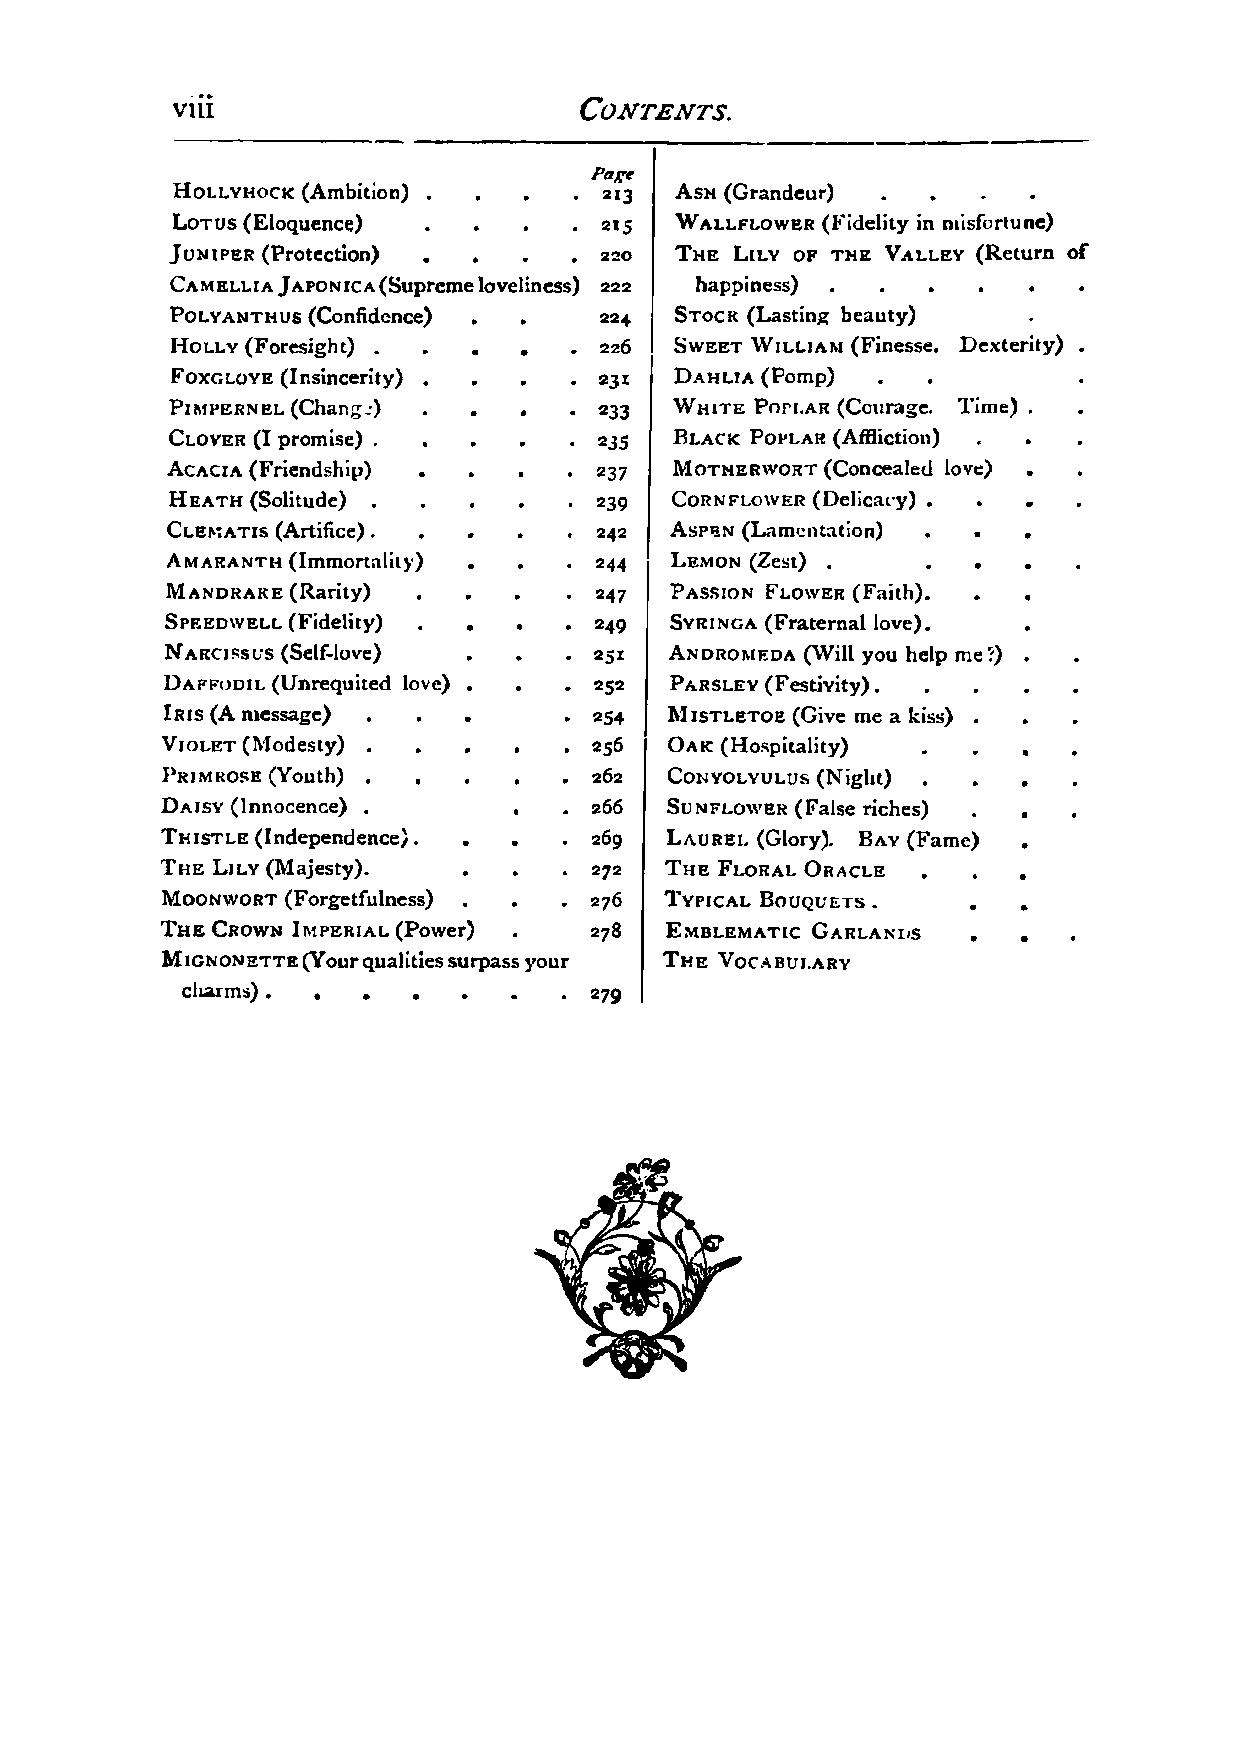TOC_chapter: (158, 947, 568, 1002), (164, 271, 582, 299), (153, 917, 570, 942), (164, 170, 412, 207), (162, 670, 450, 698), (156, 823, 416, 854), (166, 301, 433, 330), (156, 887, 436, 913), (166, 362, 404, 391), (164, 454, 374, 484), (162, 549, 427, 573), (156, 790, 352, 823), (160, 577, 377, 605), (156, 855, 362, 884), (165, 515, 366, 545), (166, 209, 365, 239), (162, 727, 346, 758), (164, 423, 364, 451), (169, 331, 356, 361), (156, 641, 382, 666), (158, 611, 382, 635), (170, 243, 382, 268), (165, 395, 381, 419), (160, 761, 344, 789), (165, 487, 349, 513), (158, 699, 331, 725)
TOC_pagenumber: (590, 458, 628, 482), (595, 365, 629, 391), (590, 825, 621, 854), (596, 399, 633, 421), (590, 427, 628, 450), (589, 856, 623, 882), (589, 981, 623, 1007), (595, 488, 629, 513), (595, 522, 631, 545), (589, 705, 625, 727), (595, 336, 632, 357), (592, 612, 627, 635), (590, 672, 625, 695), (597, 305, 631, 327), (590, 733, 624, 756), (589, 921, 623, 943), (599, 212, 633, 234), (590, 643, 621, 667), (595, 582, 627, 605), (590, 794, 623, 817), (599, 183, 635, 203), (596, 246, 633, 264), (597, 274, 632, 293), (590, 892, 625, 911), (595, 556, 628, 574), (590, 766, 621, 785)
chapter: (574, 87, 731, 126)
